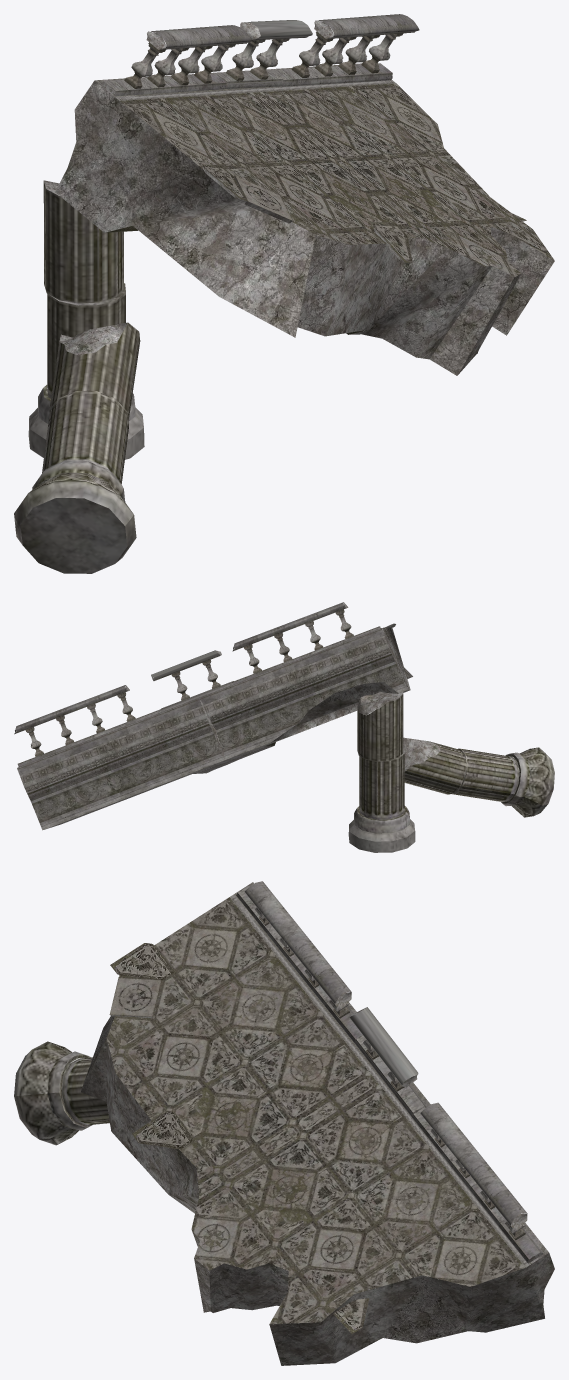
File: eso_ss14_ruins6-transformed.glb
3 views of the same model, one above another, from view 1: azimuth 30°, elevation 25°; view 2: azimuth 150°, elevation 25°; view 3: azimuth 270°, elevation 25° (orthographic). The views are drawn at different scales.
Visible parts, largest first — view 1: default; view 2: default; view 3: default.
Boxes of the visible parts, x1,y1,x2,y2 form: default: (14,14,554,573); default: (14,602,554,852); default: (14,881,554,1365).
Bounding box in the file's own units: 14.73 × 8.41 × 12.23.
Materials: 4 (4 with a texture image).
